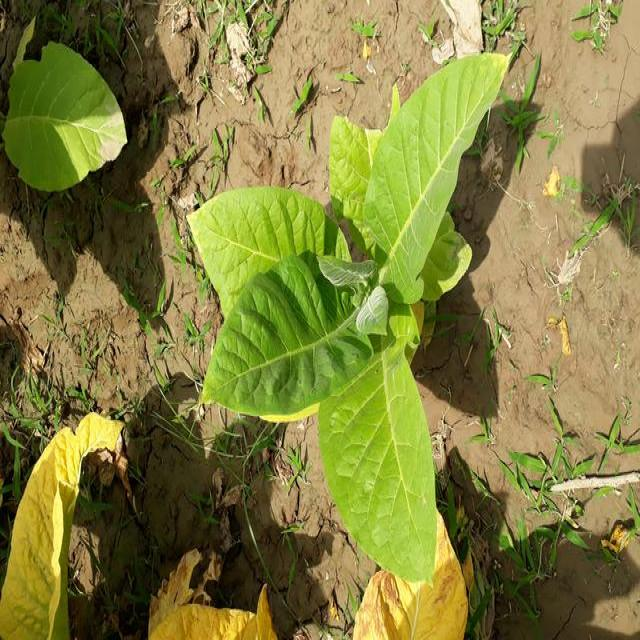crop: (190, 68, 491, 565), (2, 424, 126, 640), (2, 47, 132, 183), (356, 497, 467, 640), (154, 564, 278, 640)
